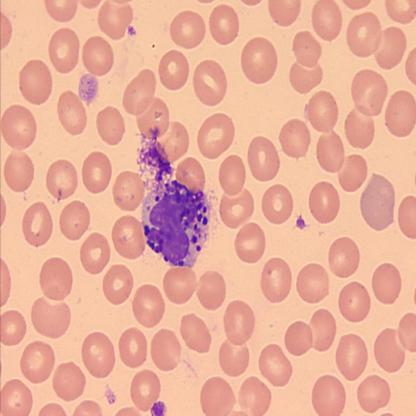Basophil: (139, 178, 215, 272)
